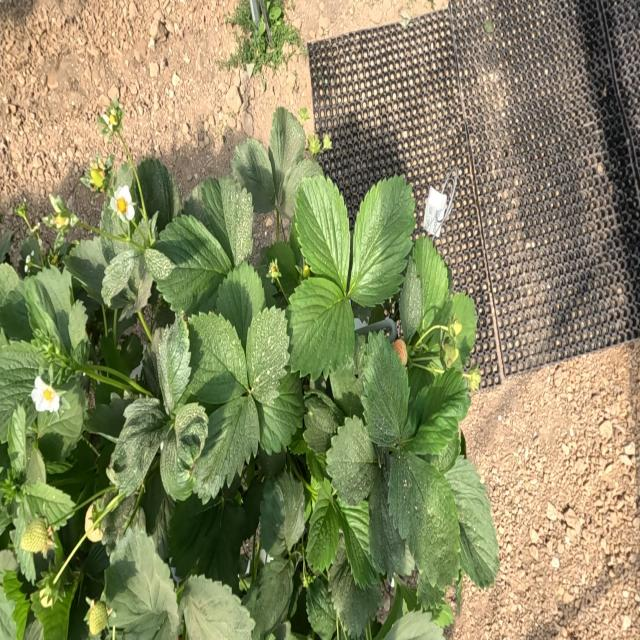Flowers: (31, 376, 60, 412), (110, 185, 134, 221)
Leaves: (388, 450, 460, 590), (349, 176, 414, 306), (106, 529, 180, 639), (154, 216, 234, 313), (445, 455, 499, 588), (194, 388, 259, 498), (290, 270, 354, 379), (294, 174, 350, 290), (402, 366, 470, 456), (186, 178, 253, 267), (110, 398, 169, 496), (361, 334, 409, 447), (188, 313, 247, 404), (180, 575, 255, 639), (329, 547, 382, 637), (0, 341, 47, 440), (326, 417, 377, 504), (169, 495, 222, 578), (369, 470, 409, 578), (246, 307, 289, 404), (217, 261, 265, 347), (199, 501, 245, 590), (255, 372, 304, 455), (243, 558, 294, 637), (260, 471, 305, 559), (268, 107, 305, 204), (156, 315, 191, 414), (334, 497, 372, 588), (413, 236, 448, 329), (306, 481, 341, 572), (137, 157, 180, 230), (232, 138, 274, 212), (38, 385, 85, 449), (436, 293, 477, 364), (66, 239, 107, 303), (281, 157, 322, 219), (101, 249, 142, 306), (160, 430, 193, 500), (174, 403, 208, 469), (23, 481, 75, 524), (265, 242, 302, 299), (399, 259, 423, 341), (85, 398, 128, 439), (8, 405, 27, 471), (243, 479, 263, 538), (145, 249, 175, 284)
Strawberries: (43, 194, 78, 236), (21, 518, 53, 553), (97, 99, 124, 136), (84, 600, 108, 636), (85, 505, 103, 542), (90, 162, 104, 191), (393, 338, 408, 365), (268, 258, 281, 282), (39, 586, 53, 607), (453, 316, 462, 336)
